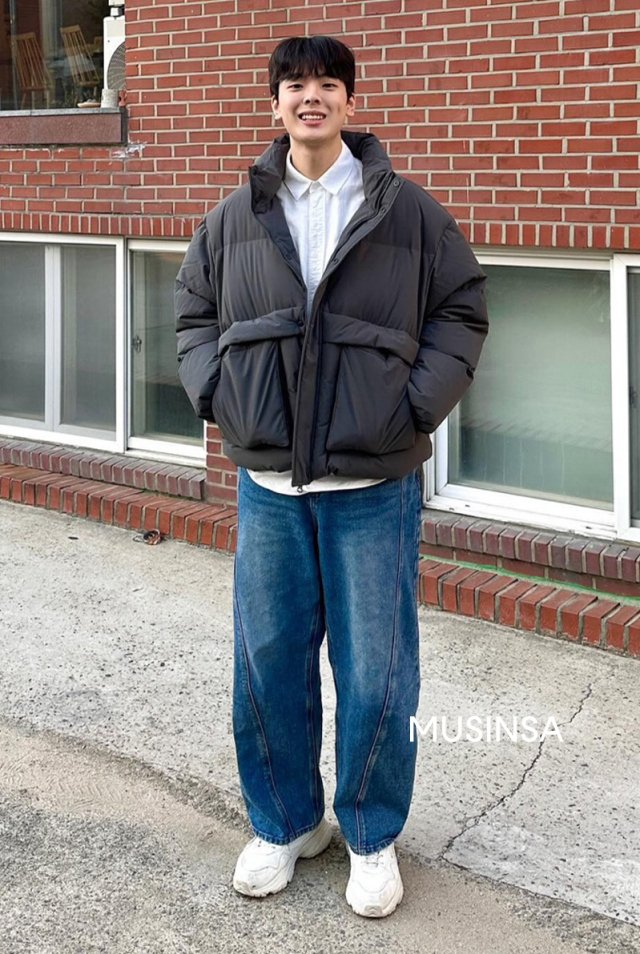Bubble jacket: (167, 128, 493, 486)
Jeans: (228, 457, 429, 854)
Shirt: (274, 144, 367, 266)
Shoes: (224, 815, 414, 925)
